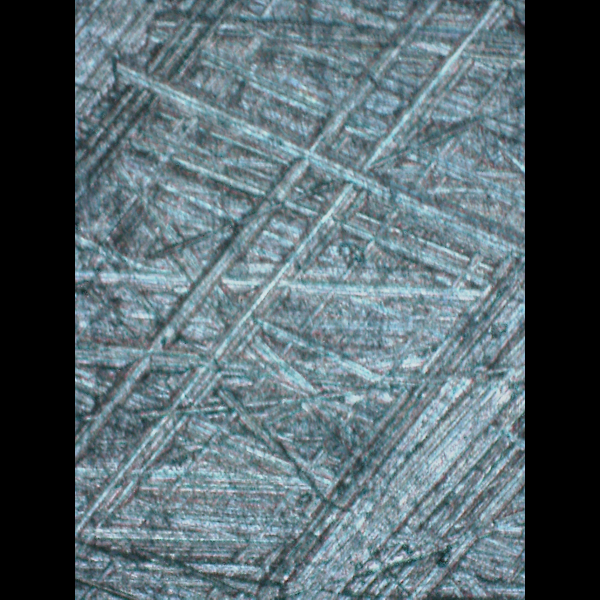d: (250, 241, 523, 600), (110, 53, 515, 264)
